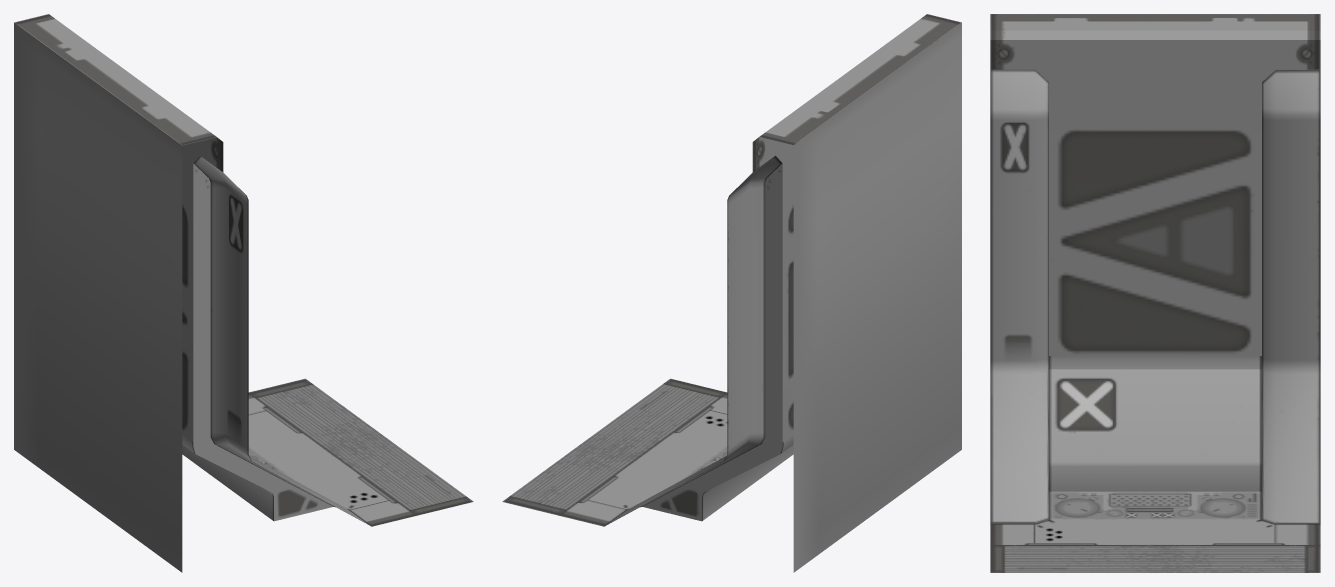
File: A_Wall_Niche_2x2.FBX
3 renders of one model, left to right at view 1: azimuth 30°, elevation 25°; view 2: azimuth 150°, elevation 25°; view 3: azimuth 270°, elevation 25°, orthographic.
Visible parts, largest first — view 1: A_Wall_Niche_2x2; view 2: A_Wall_Niche_2x2; view 3: A_Wall_Niche_2x2.
Boxes of the visible parts, x1,y1,x2,y2 form: A_Wall_Niche_2x2: (14,14,473,572); A_Wall_Niche_2x2: (502,14,961,572); A_Wall_Niche_2x2: (990,14,1320,572).
Size of the model in its own units: 200 by 280 by 200.
